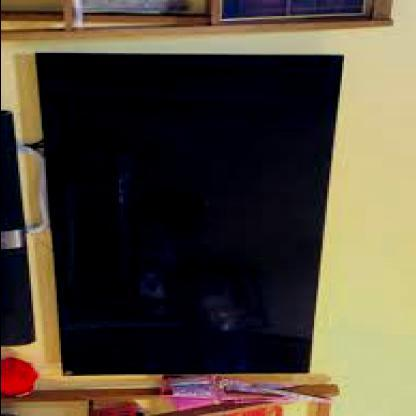TV: (38, 40, 348, 378)
